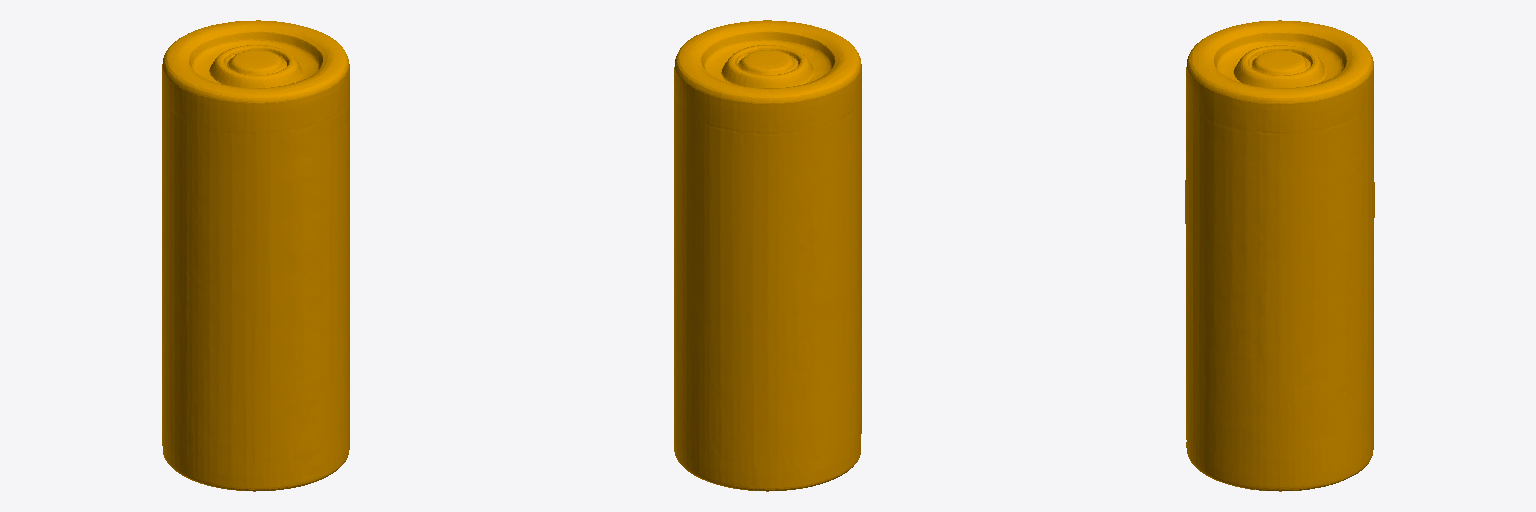
robot.urdf — sample:
<?xml version="1.0" ?>
<robot name="sample">
   <link name="sample">
      <visual>
         <origin xyz="0 0 0" rpy="1.5708 0.0 0.0"/>
         <geometry>
            <mesh filename="mesh/sample.obj" scale="1.0 1.0 1.0"/>
         </geometry>
      </visual>
      <collision>
         <origin xyz="0 0 0" rpy="1.5708 0.0 0.0"/>
         <geometry>
            <mesh filename="mesh/sample_collision.obj" scale="1.0 1.0 1.0"/>
         </geometry>
         <gazebo>
            <mu1>0.50</mu1>
            <mu2>0.40</mu2>
         </gazebo>
      </collision>
      <inertial>
         <mass value="0.1500"/>
         <origin xyz="0 0 0"/>
         <inertia ixx="1.0" ixy="0.0" ixz="0.0" iyy="1.0" iyz="0.0" izz="1.0"/>
      </inertial>
      <extra_info>
         <scale>0.070000</scale>
         <version>v0.1.7</version>
         <category>battery</category>
         <description>cylindrical blue battery with white text and symbols</description>
         <min_height>0.06</min_height>
         <max_height>0.08</max_height>
         <real_height>0.07</real_height>
         <min_mass>0.1</min_mass>
         <max_mass>0.2</max_mass>
         <color>blue</color>
         <rgba>[0.0, 0.0, 1.0, 1.0]</rgba>
         <generate_time>20260625095309</generate_time>
         <gs_model>mesh/sample_gs.ply</gs_model>
      </extra_info>
   </link>
   <custom_data>
      <quality>
         <MeshGeoChecker>YES</MeshGeoChecker>
         <ImageSegChecker>NO, background artifacts present, object not cleanly isolated.</ImageSegChecker>
         <ImageAestheticChecker>4.025756001472473</ImageAestheticChecker>
         <overall>NO</overall>
      </quality>
   </custom_data>
</robot>

--- Render facts (derived) ---
The picture shows the robot from 3 angles, left to right: view 1: azimuth 30°, elevation 25°; view 2: azimuth 150°, elevation 25°; view 3: azimuth 270°, elevation 25°; orthographic projection.
Model sample with 1 links and 0 joints (none), rooted at sample, posed every joint at zero.
Visible links, largest first — view 1: sample; view 2: sample; view 3: sample.
Link boxes in pixels (bbox=[...]): sample: bbox=[162, 20, 349, 491]; sample: bbox=[674, 20, 861, 491]; sample: bbox=[1185, 20, 1374, 491].
Bounding box of the posed robot: 0.0302 × 0.0302 × 0.07 m (x, y, z).
Meshes: 1 distinct files referenced, 1 mesh visuals loaded (1 OBJ).
